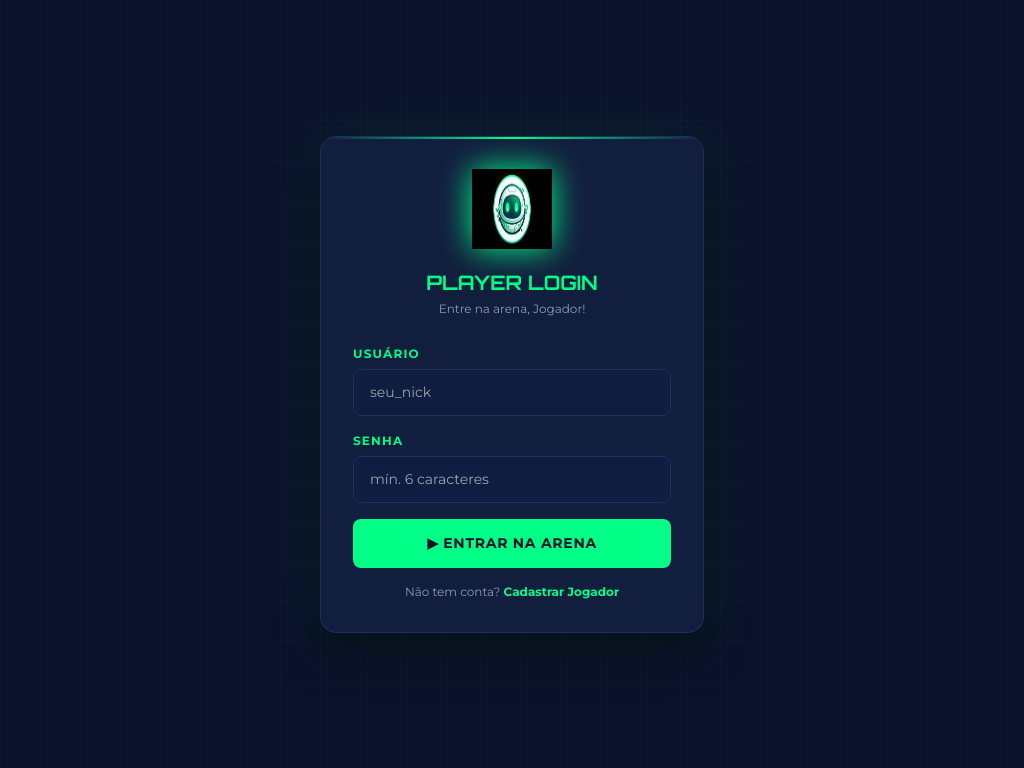
Test: LoginForm › shows validation error for short username
Type "ab" into the field labelled "USUÁRIO" at {"x": 512, "y": 392}, box [353,368,671,416]
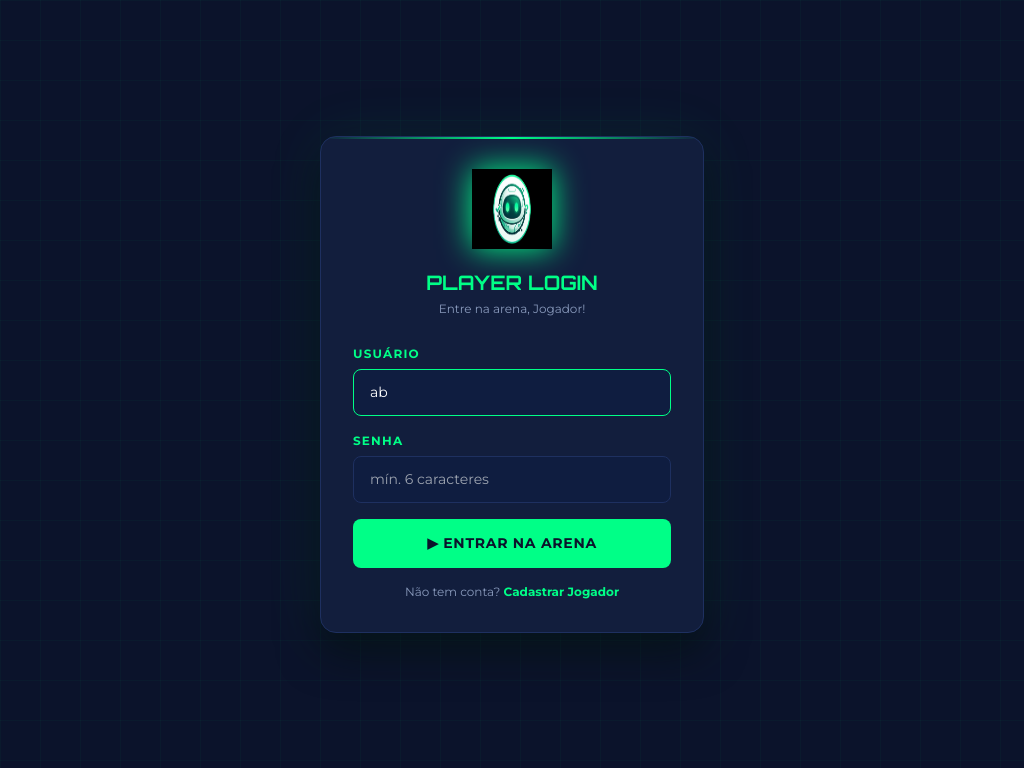
Type "senha123" into the password field labelled "SENHA" at {"x": 512, "y": 479}, box [353,456,671,502]
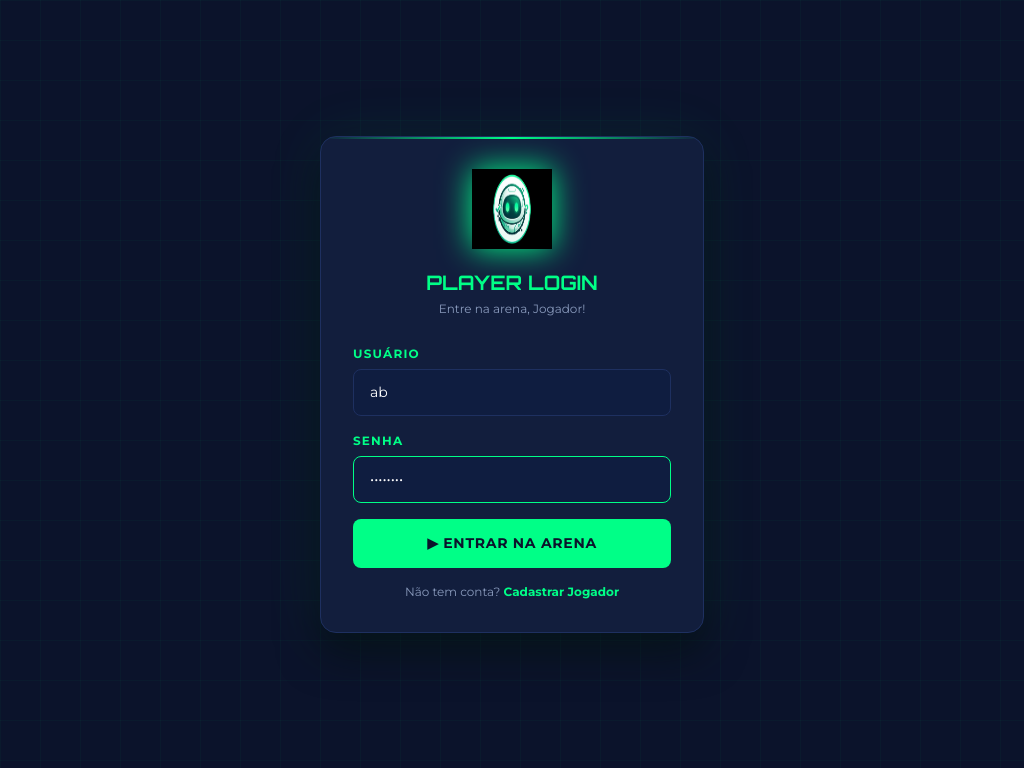
Click the button "▶ ENTRAR NA ARENA" at {"x": 512, "y": 543}, box [353,518,671,568]
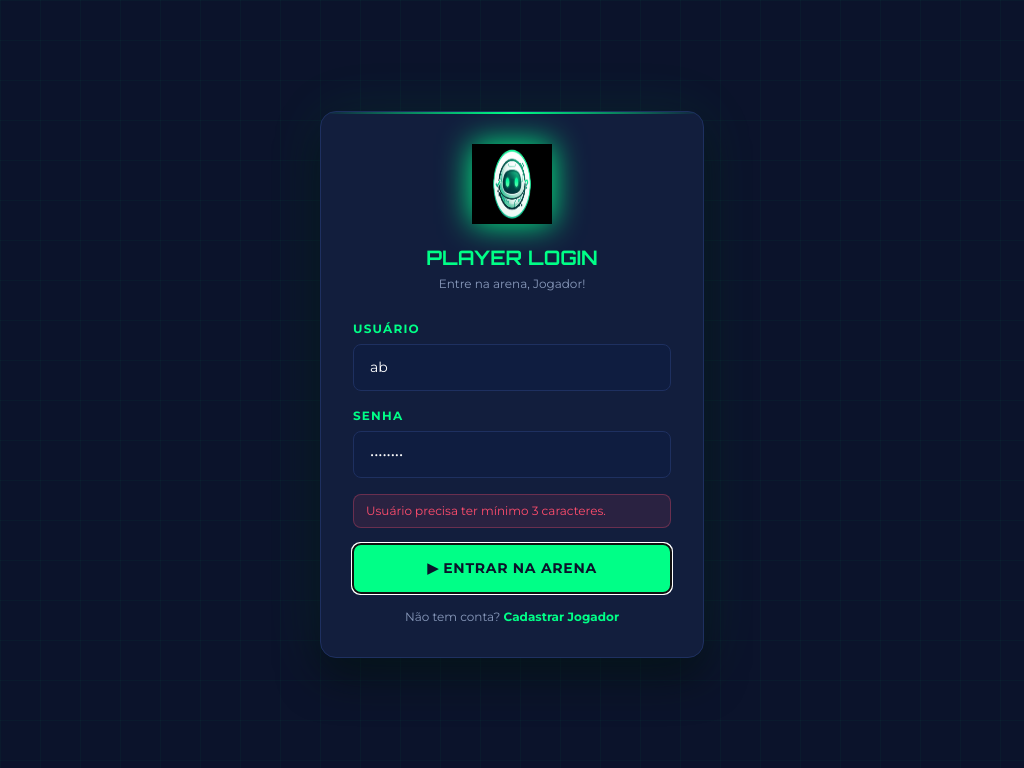
Expected: the text "Usuário precisa ter mínimo 3 caracteres." is shown, [353,494,671,528]
